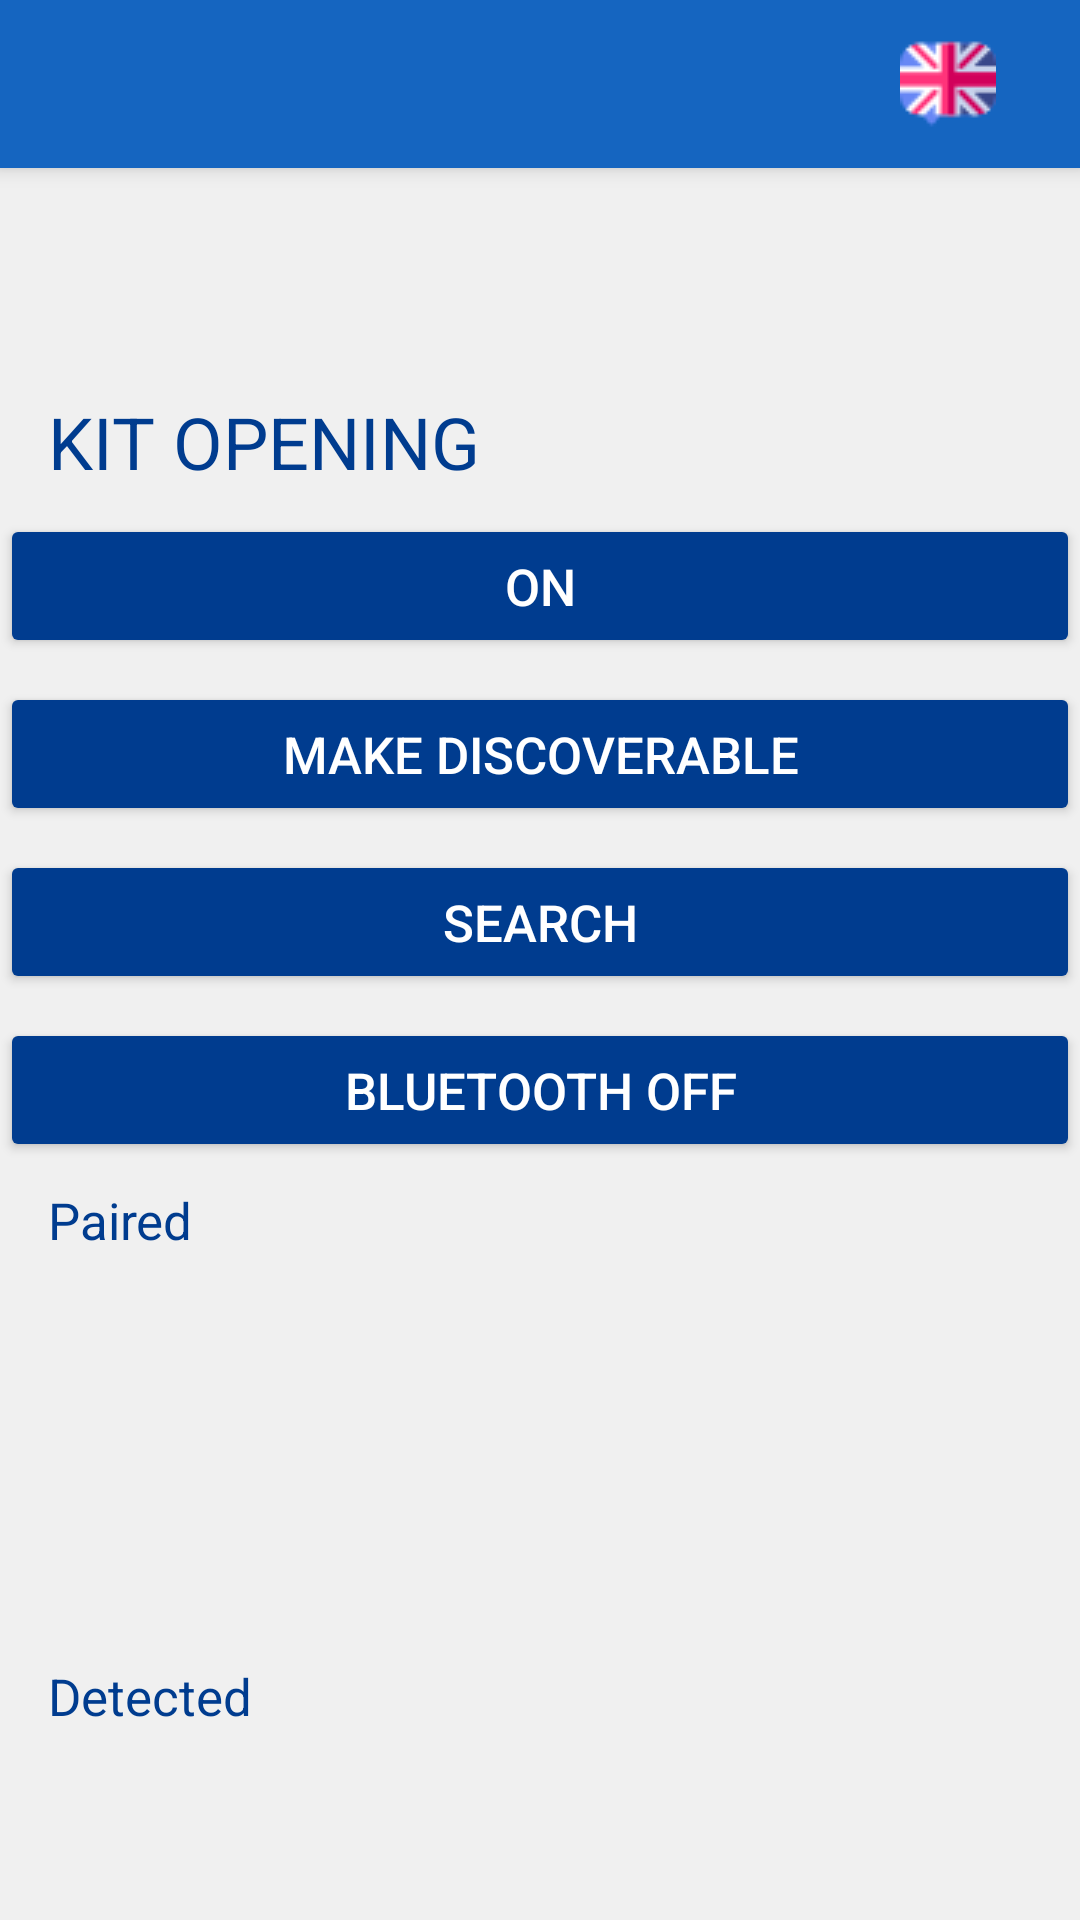

Named icons in this screenshot (1080px x 1920px) and their centers, (x,y):
lang: (948,83)
